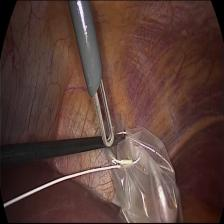Grasper: (89, 82, 116, 148), (111, 133, 126, 149)
Specimen Bag: (100, 131, 186, 224)
